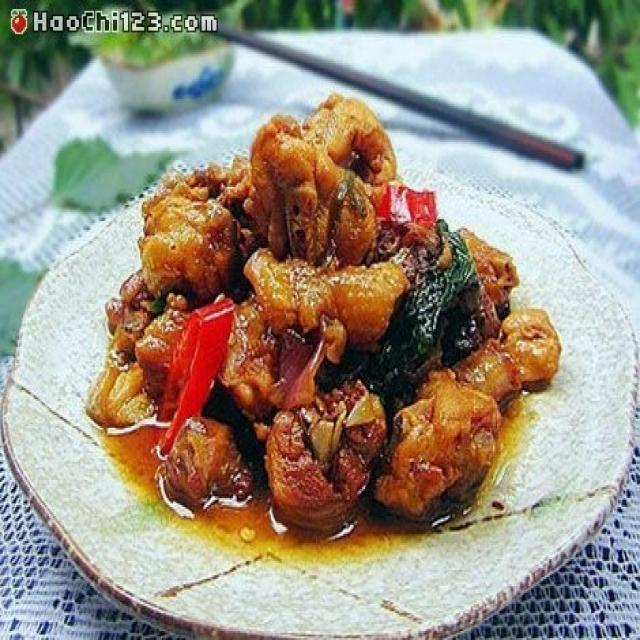鸡肉料理 含炸鸡: (35, 90, 595, 597)
